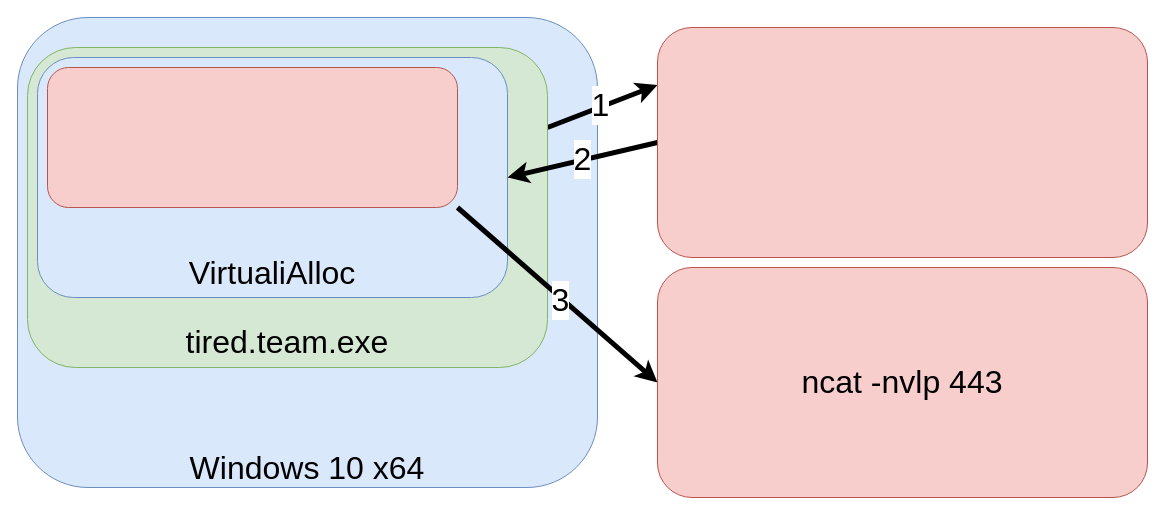
Image size: 1165x515. Some labels were removed from this diagram. Each missing label, with the centre of its shape:
"python_server.py (192.168.88.132, 4433)" belongs at [902,142].
"shell_reverse_tcp" belongs at [252,137].
